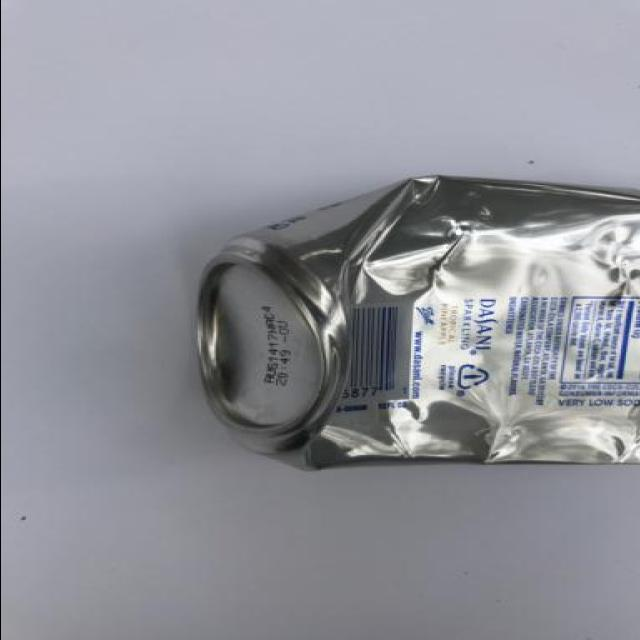litter: (187, 172, 635, 474)
